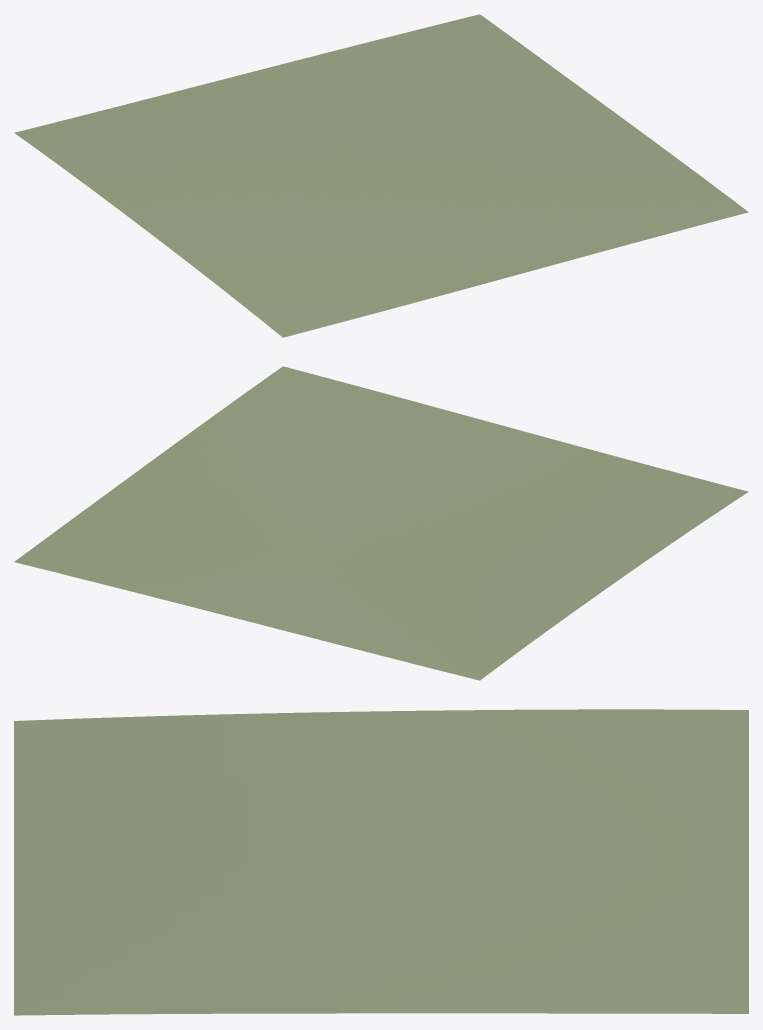
The model's file is desert-25-7.glb.
3 renders of one model, top to bottom at view 1: azimuth 30°, elevation 25°; view 2: azimuth 150°, elevation 25°; view 3: azimuth 270°, elevation 25°, orthographic. The views are drawn at different scales.
Parts seen in each view (by area): view 1: desert-25-7; view 2: desert-25-7; view 3: desert-25-7.
Boxes of the visible parts, <box> form: desert-25-7: <box>14,14,748,337</box>; desert-25-7: <box>14,366,748,680</box>; desert-25-7: <box>14,709,748,1015</box>.
Size of the model in its own units: 512 by 14 by 512.
